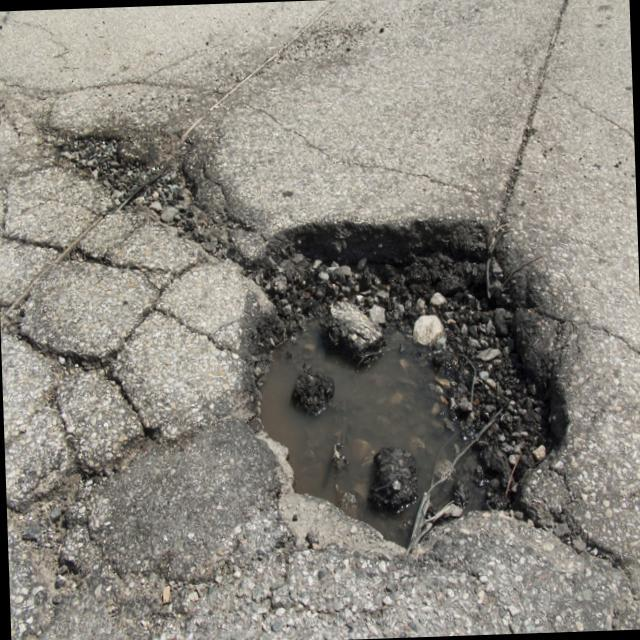Pothole: (243, 161, 581, 588), (56, 102, 217, 261)
